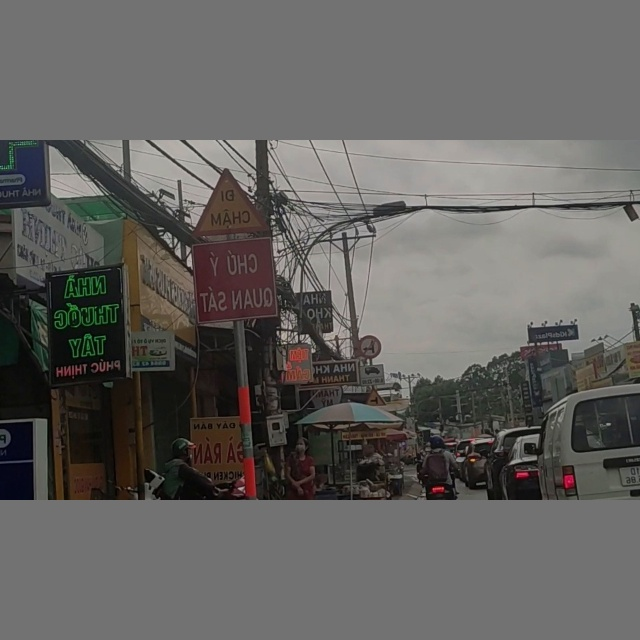P.139: (355, 333, 383, 361)
S.505a*Xe tai: (359, 365, 383, 384)
W.205b: (365, 386, 385, 407)
W.245a: (185, 167, 271, 237)
